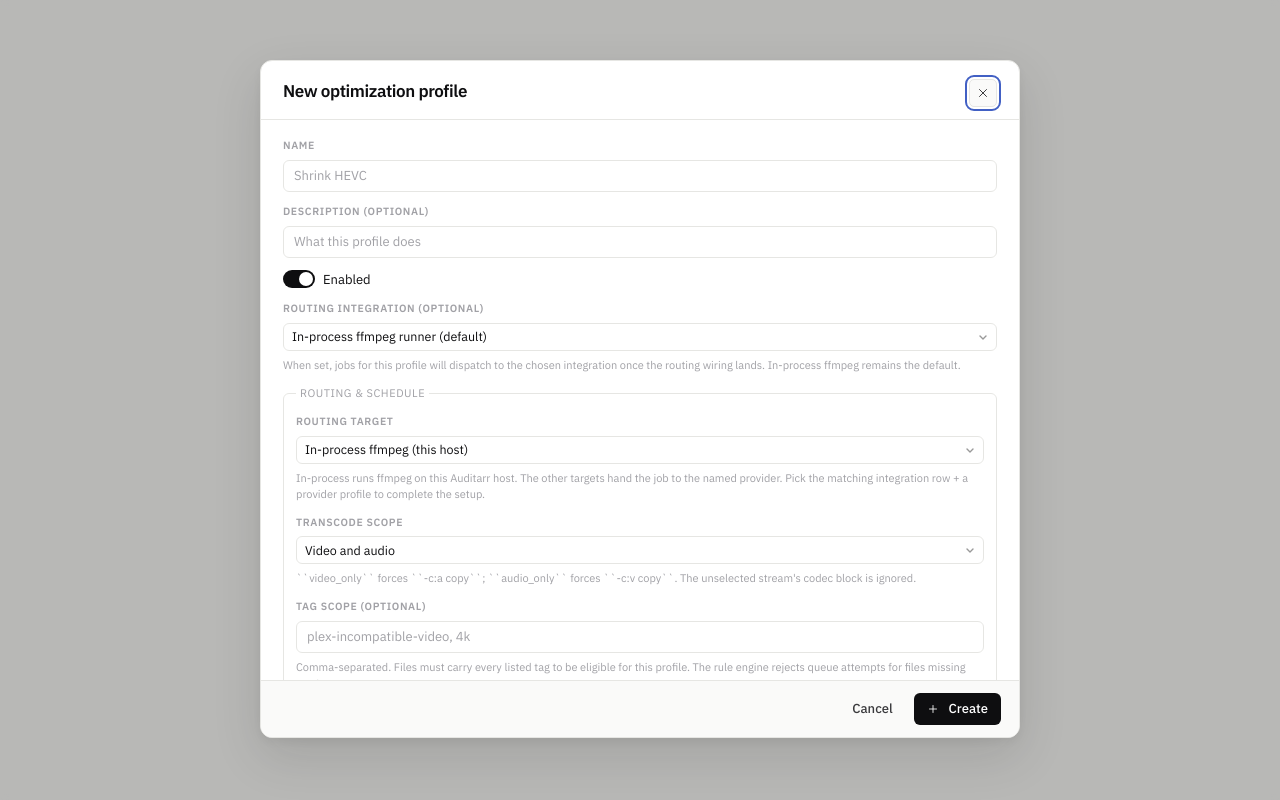
Stage 07 — routing_target=plex › hides Preset, Max bitrate, Scale, Extra args; keeps CRF (disabled with hint)
The width and height of the screenshot is (1280, 800).
Select "Plex transcoder" in the dropdown with test id "routing-target-select" at (640, 450), box x1=296 y1=436 x2=984 y2=464
(page scrolled)
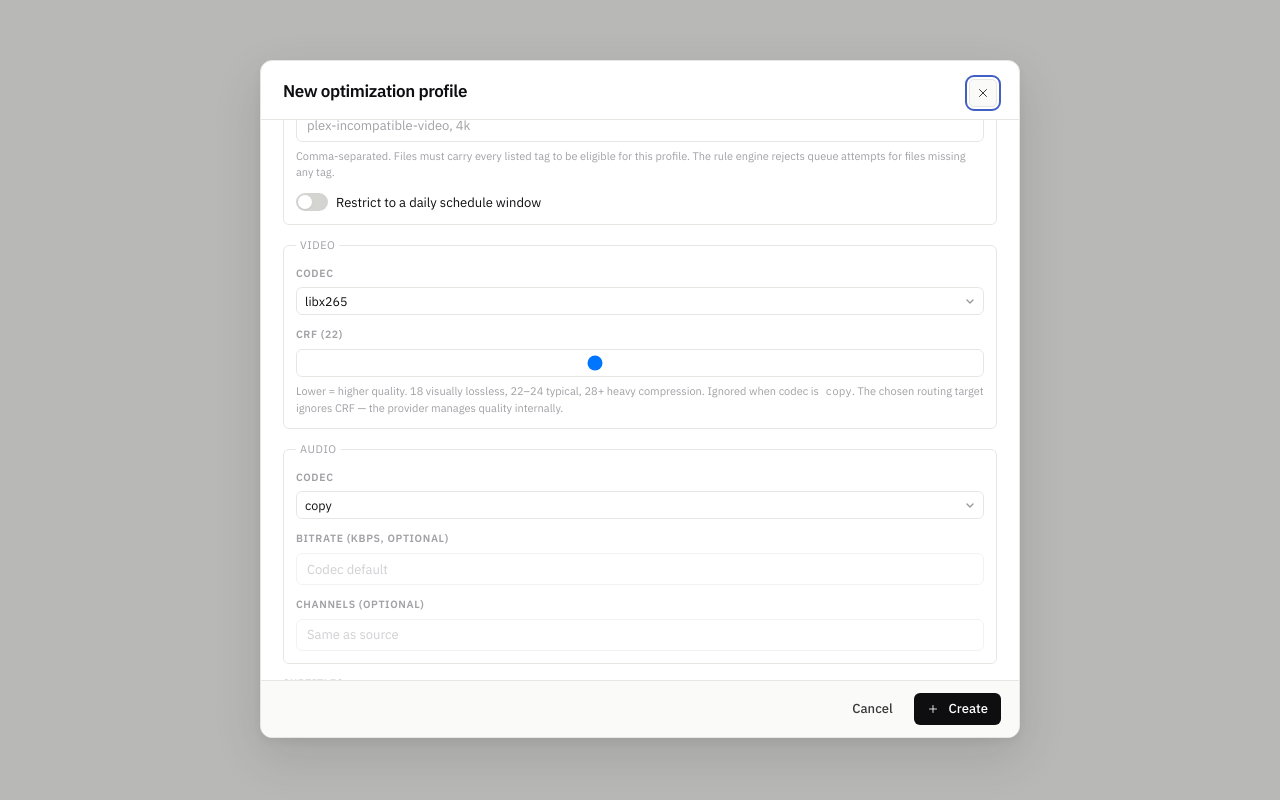
Now the slider named "CRF (constant rate factor)" is disabled, box x1=296 y1=349 x2=984 y2=377
Now the text "routing target ignores CRF" is shown, box x1=296 y1=384 x2=984 y2=414
